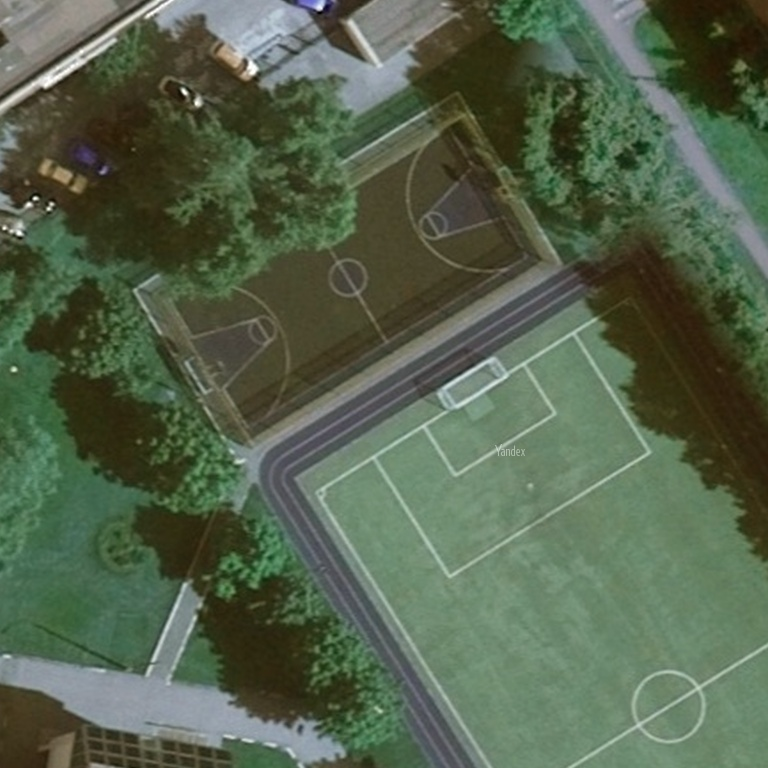basket_court: (112, 78, 578, 477)
